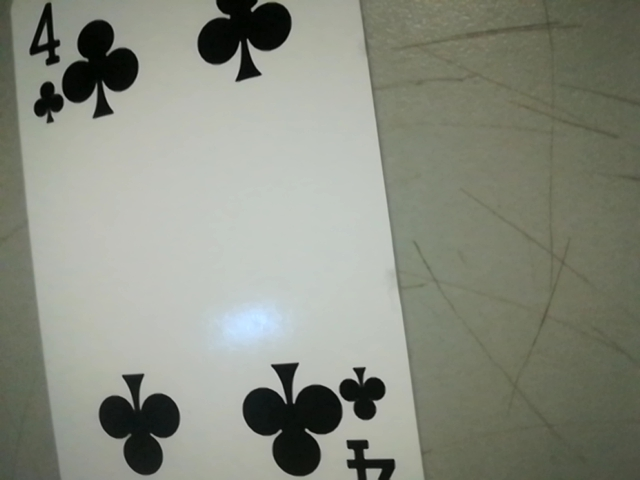mh 4: (327, 355, 414, 480)
